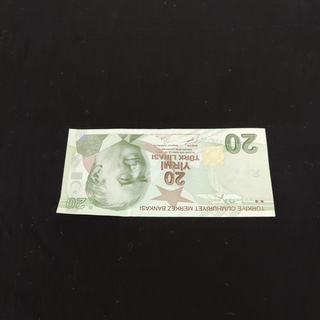20TLFront: (54, 127, 278, 219)
